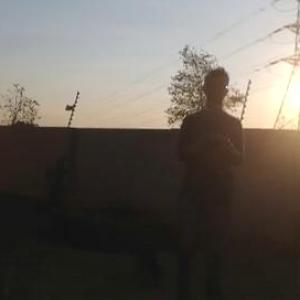follow: (169, 62, 247, 293)
